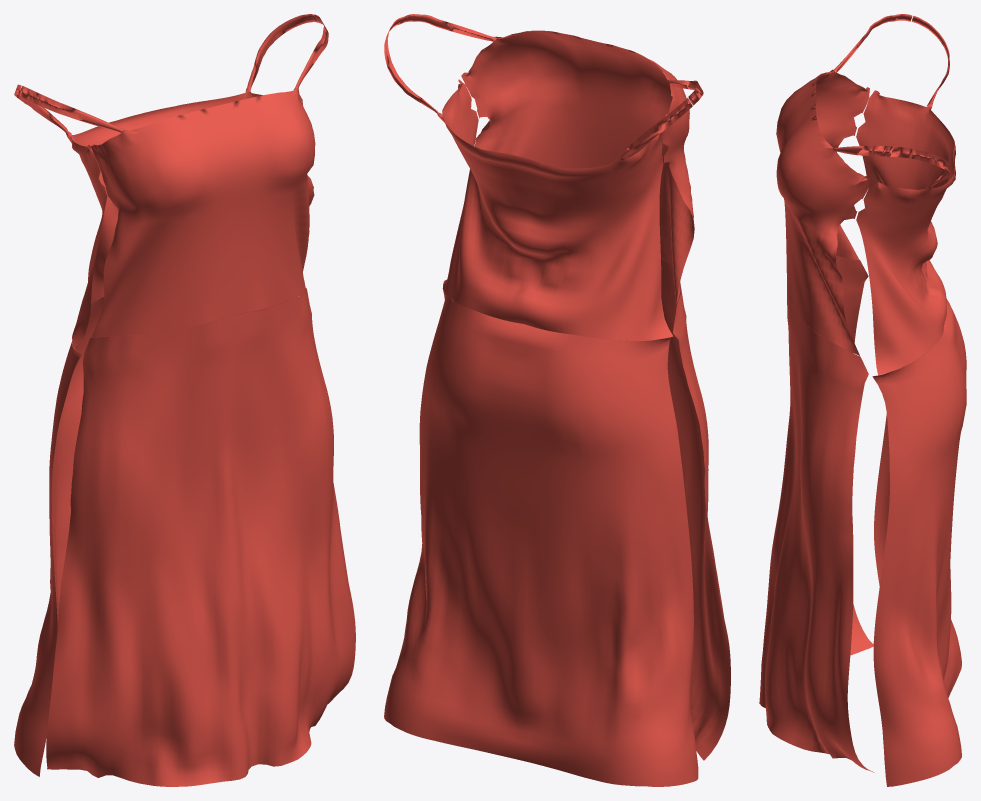
The model's file is Long_Dress.glb.
The picture shows the model from 3 angles, left to right: view 1: azimuth 30°, elevation 25°; view 2: azimuth 150°, elevation 25°; view 3: azimuth 270°, elevation 25°; orthographic projection. The views are drawn at different scales.
Parts seen in each view (by area): view 1: Plane; view 2: Plane; view 3: Plane.
Boxes of the visible parts, x1,y1,x2,y2 form: Plane: [14, 14, 355, 786]; Plane: [384, 14, 730, 786]; Plane: [759, 14, 966, 786].
Bounding box in the file's own units: 0.4626 × 0.9823 × 0.2874.
